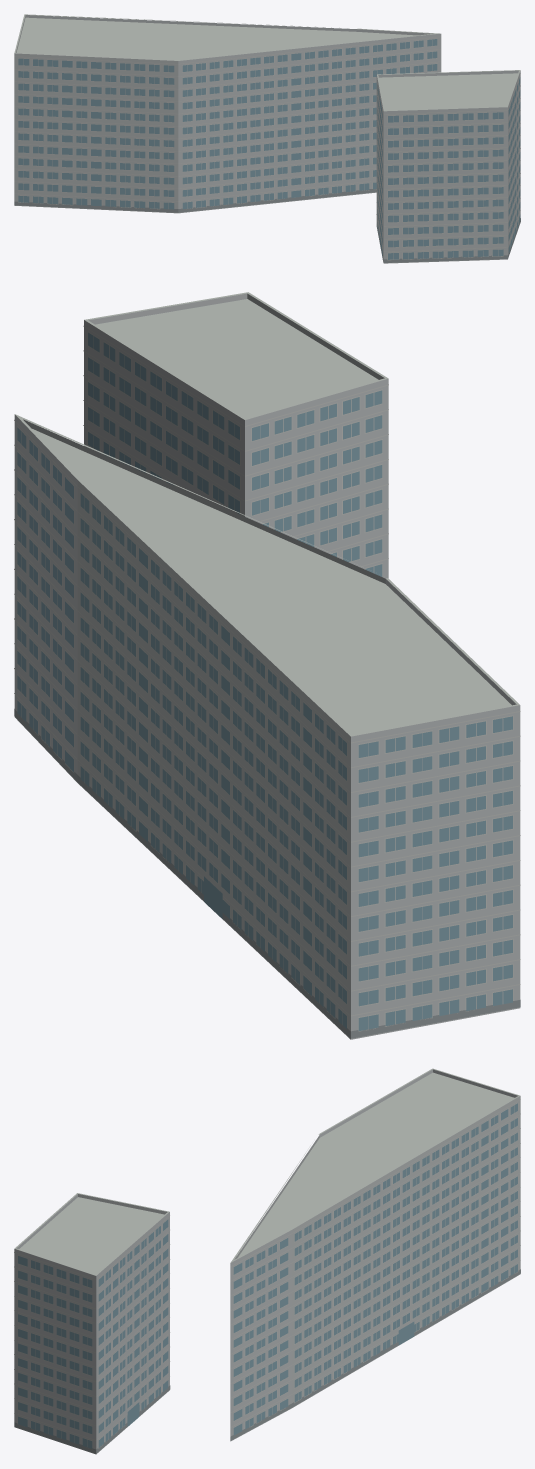
File: public-5a7d845f-dfab-4dce-ab74-af909c88a697.glb
3 renders of one model, top to bottom at view 1: azimuth 30°, elevation 25°; view 2: azimuth 150°, elevation 25°; view 3: azimuth 270°, elevation 25°, orthographic. The views are drawn at different scales.
Parts seen in each view (by area): view 1: public-5a7d845f-dfab-4dce-ab74-af909c88a697; view 2: public-5a7d845f-dfab-4dce-ab74-af909c88a697; view 3: public-5a7d845f-dfab-4dce-ab74-af909c88a697.
Boxes of the visible parts, x1,y1,x2,y2 form: public-5a7d845f-dfab-4dce-ab74-af909c88a697: (14,14,520,263); public-5a7d845f-dfab-4dce-ab74-af909c88a697: (14,292,520,1039); public-5a7d845f-dfab-4dce-ab74-af909c88a697: (14,1068,520,1454).
Bounding box in the file's own units: 91.32 × 36.6 × 94.17.
